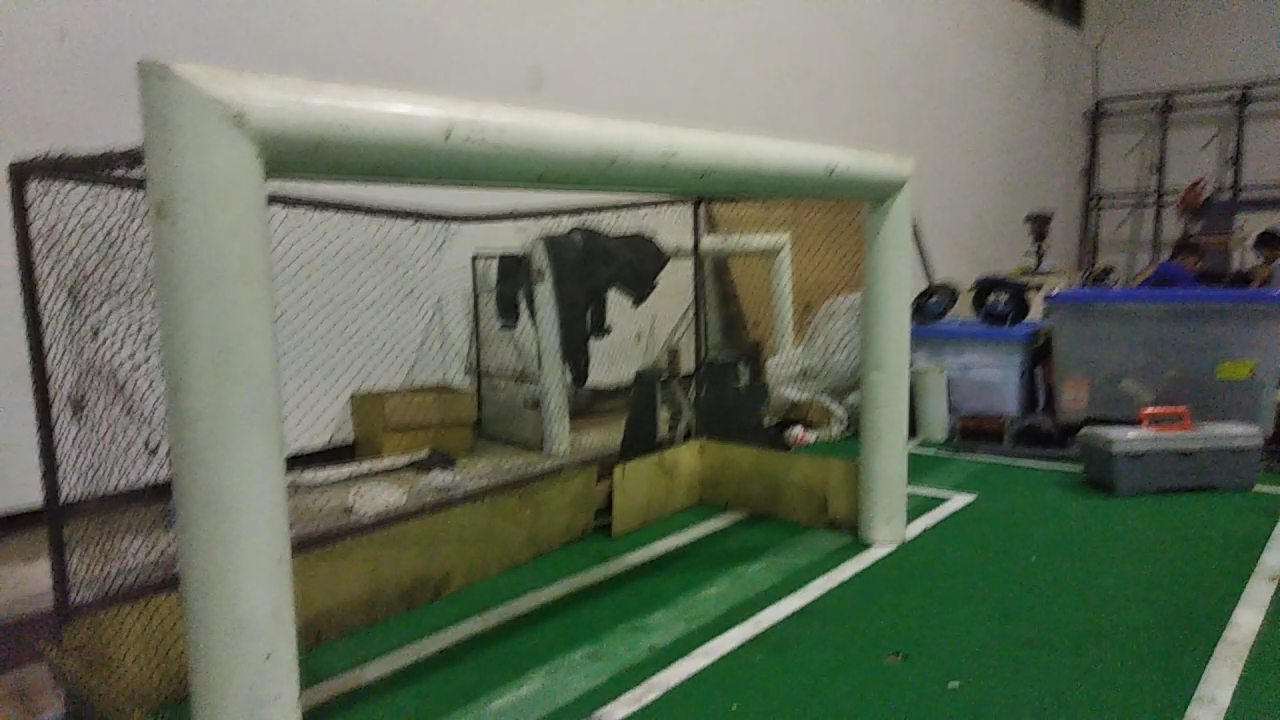gawang: (117, 48, 944, 718)
